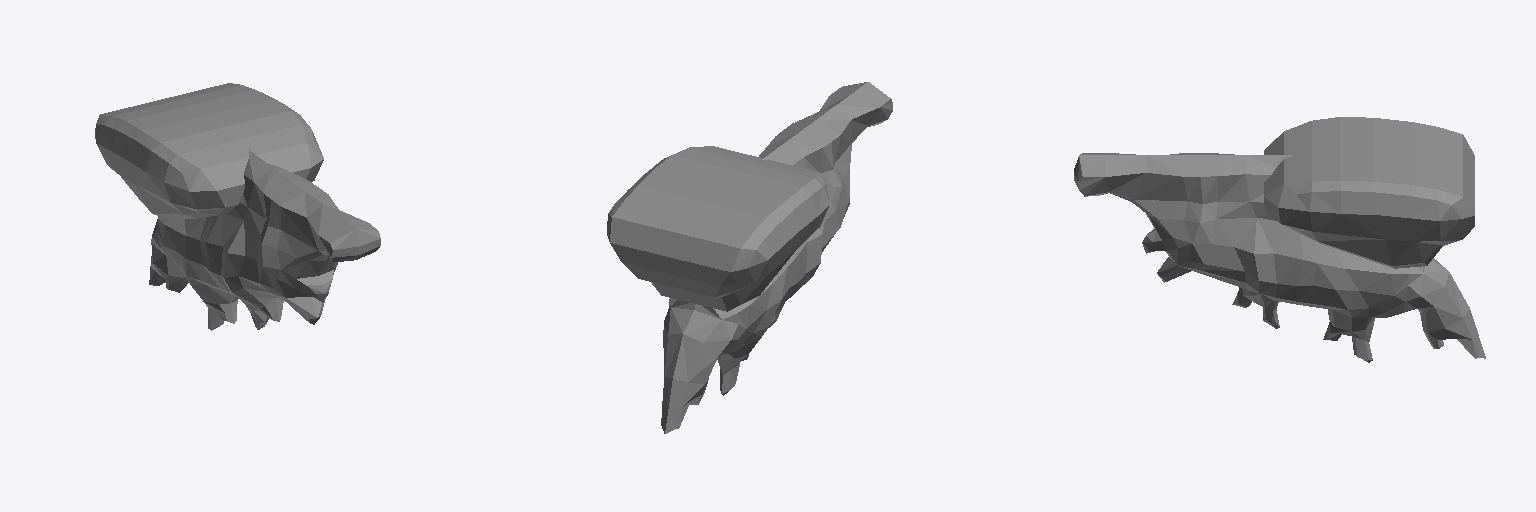
File: acc3.obj
3 views of the same model, side by side, from view 1: azimuth 30°, elevation 25°; view 2: azimuth 150°, elevation 25°; view 3: azimuth 270°, elevation 25° (orthographic).
Parts seen in each view (by area): view 1: acc3; view 2: acc3; view 3: acc3.
Boxes of the visible parts, x1=… form: acc3: x1=95, y1=83, x2=380, y2=330; acc3: x1=607, y1=82, x2=892, y2=433; acc3: x1=1074, y1=117, x2=1485, y2=362.
Bounding box in the file's own units: 8.01 × 10.28 × 17.91.